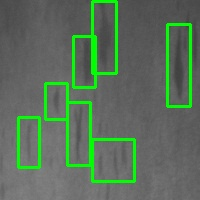inclusion: (167, 24, 190, 106), (92, 139, 134, 181), (92, 1, 116, 73), (67, 102, 90, 165), (73, 36, 95, 87), (19, 117, 39, 167), (45, 83, 67, 119)
